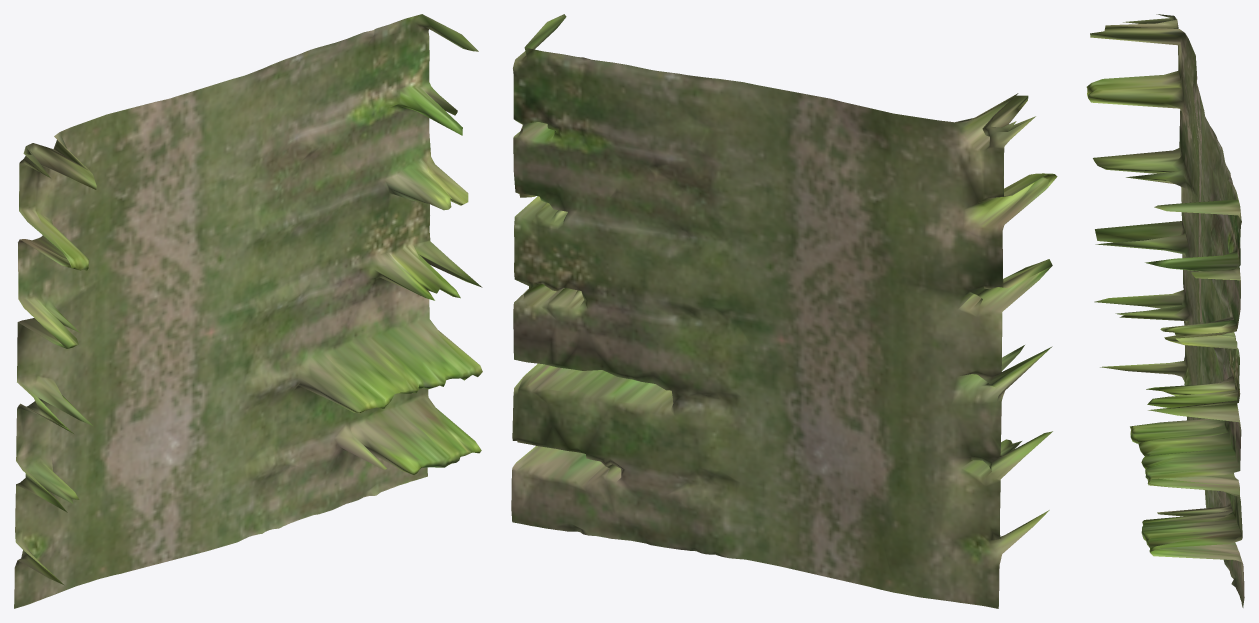
The model's file is map_100_10.obj.
The picture shows the model from 3 angles, left to right: view 1: azimuth 30°, elevation 25°; view 2: azimuth 150°, elevation 25°; view 3: azimuth 270°, elevation 25°; orthographic projection. The views are drawn at different scales.
Bounding box in the file's own units: 10 × 10 × 3.53.
Materials: 1 (1 with a texture image).
